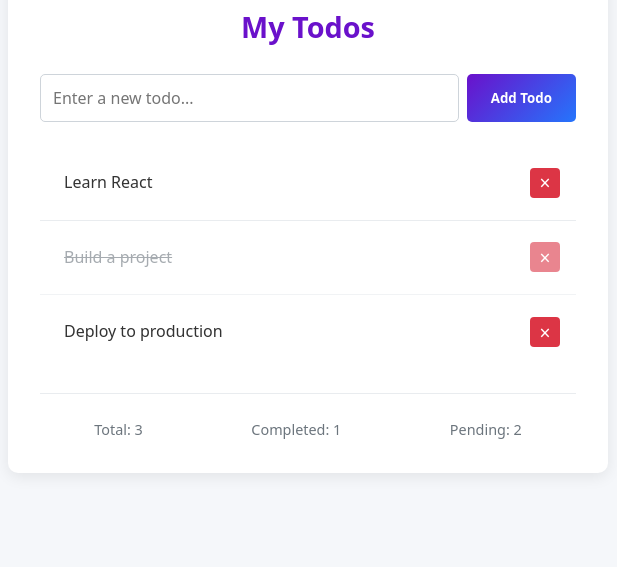
TodoList Component › displays correct todo statistics
Expected: the text "Total: 3" is shown, x1=94 y1=418 x2=143 y2=441
Expected: the text "Completed: 1" is shown, x1=251 y1=418 x2=341 y2=441
Type "New test todo" into the field with placeholder "Enter a new todo..." at (249, 98), box x1=40 y1=74 x2=459 y2=122
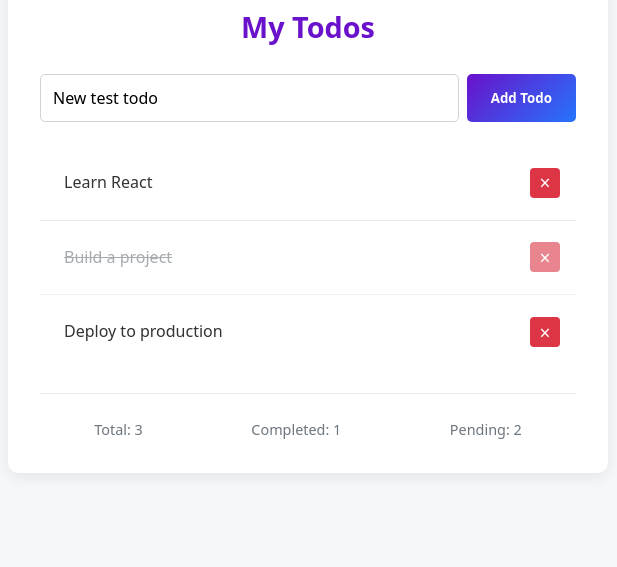
Click the button "Add Todo" at (521, 98), box x1=467 y1=74 x2=576 y2=122
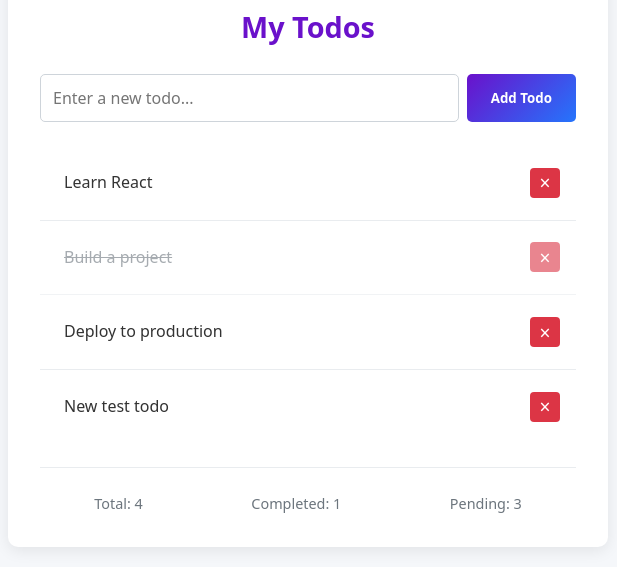
Expected: the text "Completed: 1" is shown, x1=251 y1=492 x2=341 y2=515
Result: the text "Total: 4" is shown at x1=94 y1=492 x2=143 y2=515
Result: the text "Pending: 3" is shown at x1=450 y1=492 x2=522 y2=515
